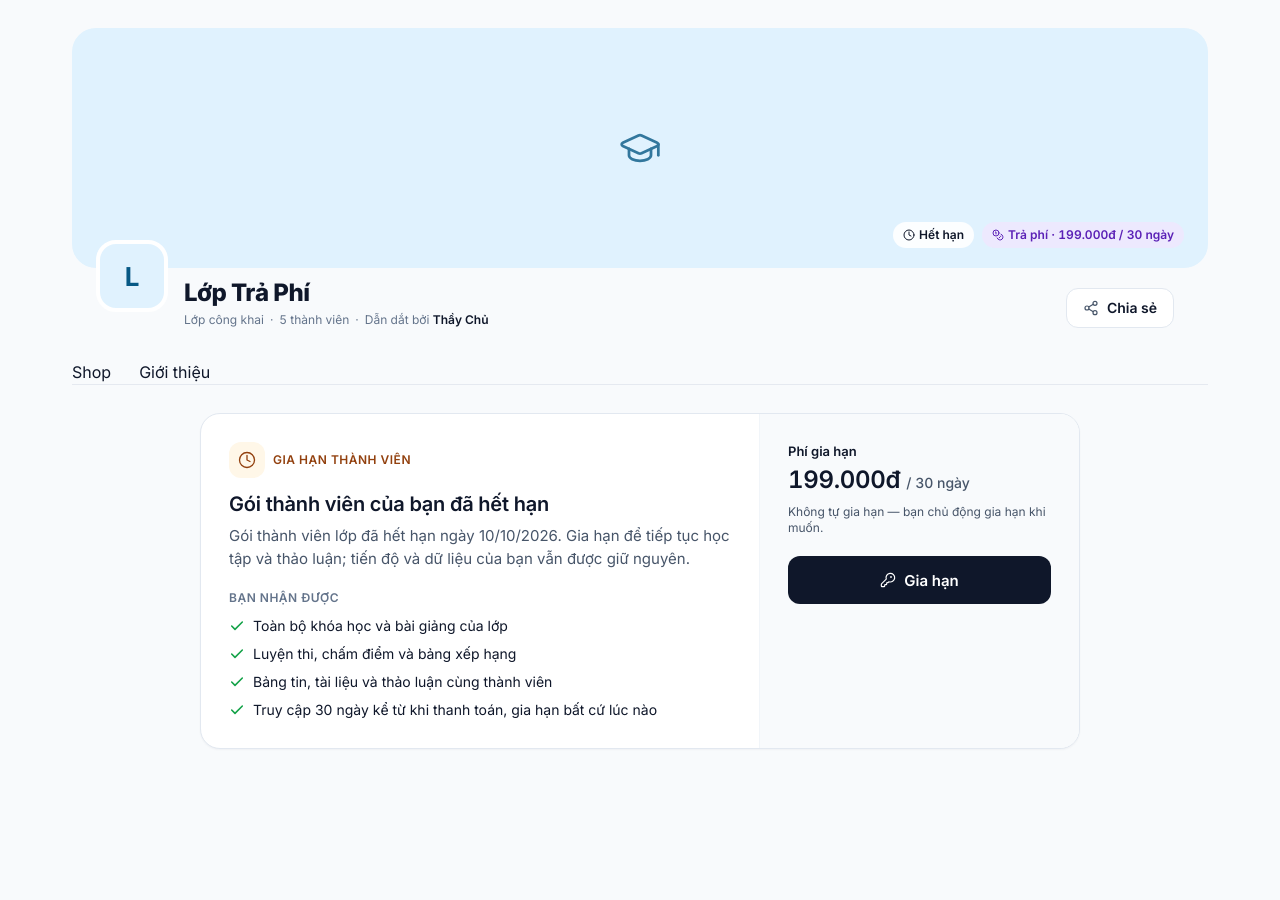
Test: ClassroomLayout - lapsed (EXPIRED) member › renews: the same checkout, then the membership is active again
This screenshot has width=1280, height=900.
Click the button "Gia hạn" at (920, 580), box top-left (788, 556), bottom-right (1051, 604)
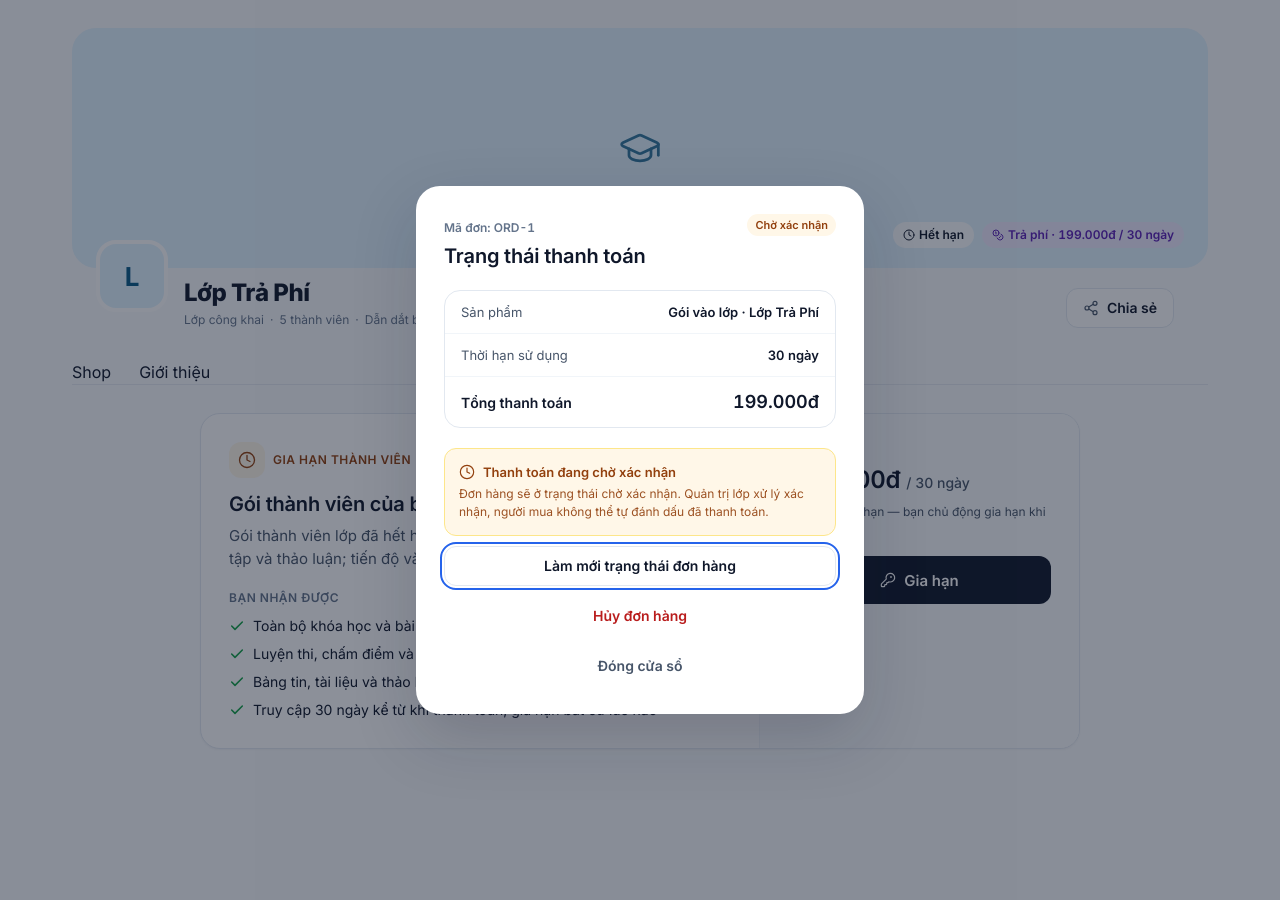
Click the button "Làm mới trạng thái đơn hàng" at (640, 566), box top-left (444, 546), bottom-right (836, 586)
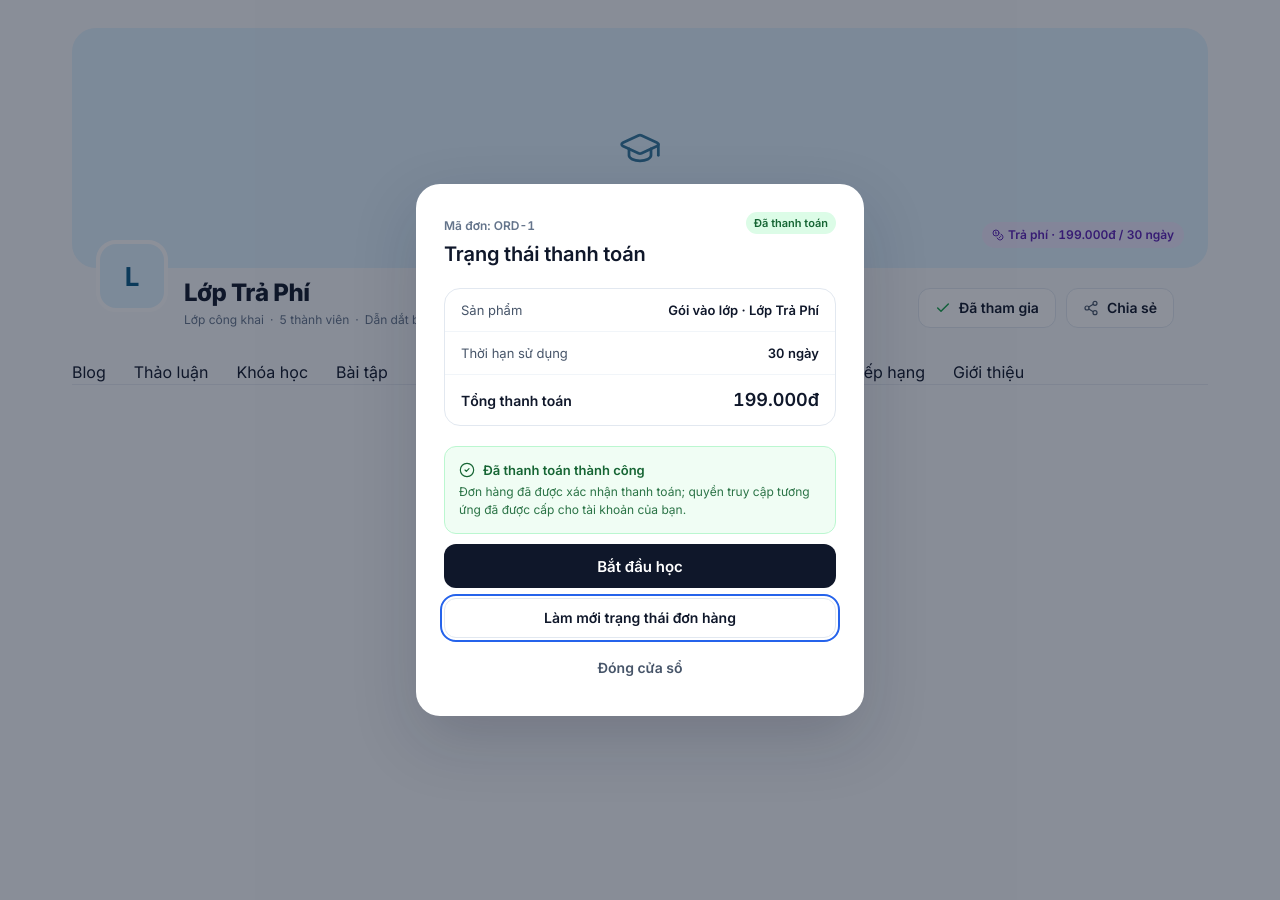
Expected: the element with test id "renewal-card" is gone
